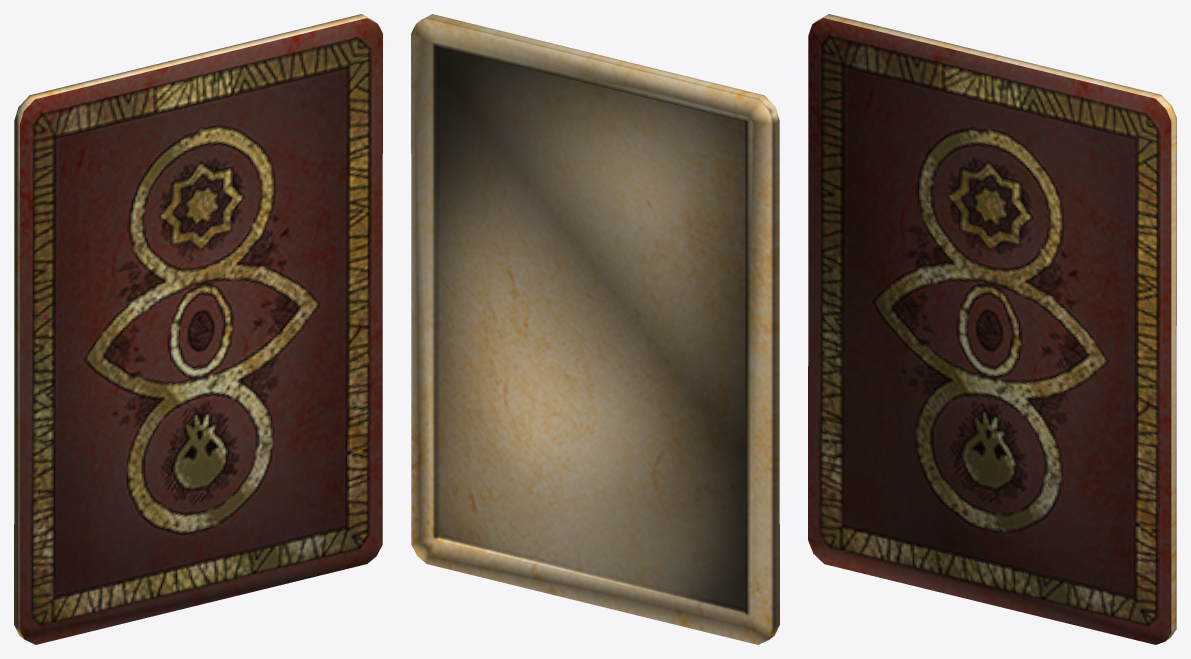
File: obj_card.obj
The picture shows the model from 3 angles, left to right: view 1: azimuth 30°, elevation 25°; view 2: azimuth 150°, elevation 25°; view 3: azimuth 330°, elevation 25°; orthographic projection.
Visible parts, largest first — view 1: cube2; view 2: cube2; view 3: cube2.
Boxes of the visible parts, x1,y1,x2,y2 form: cube2: [14, 14, 382, 644]; cube2: [411, 14, 779, 644]; cube2: [808, 14, 1176, 644].
Bounding box in the file's own units: 0.2025 × 0.2909 × 0.00539.
